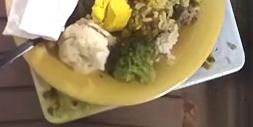broccoli: (105, 35, 158, 83)
cauliflower: (58, 18, 116, 74)
rice_mix: (122, 0, 200, 54)
tofu: (91, 0, 131, 32)
